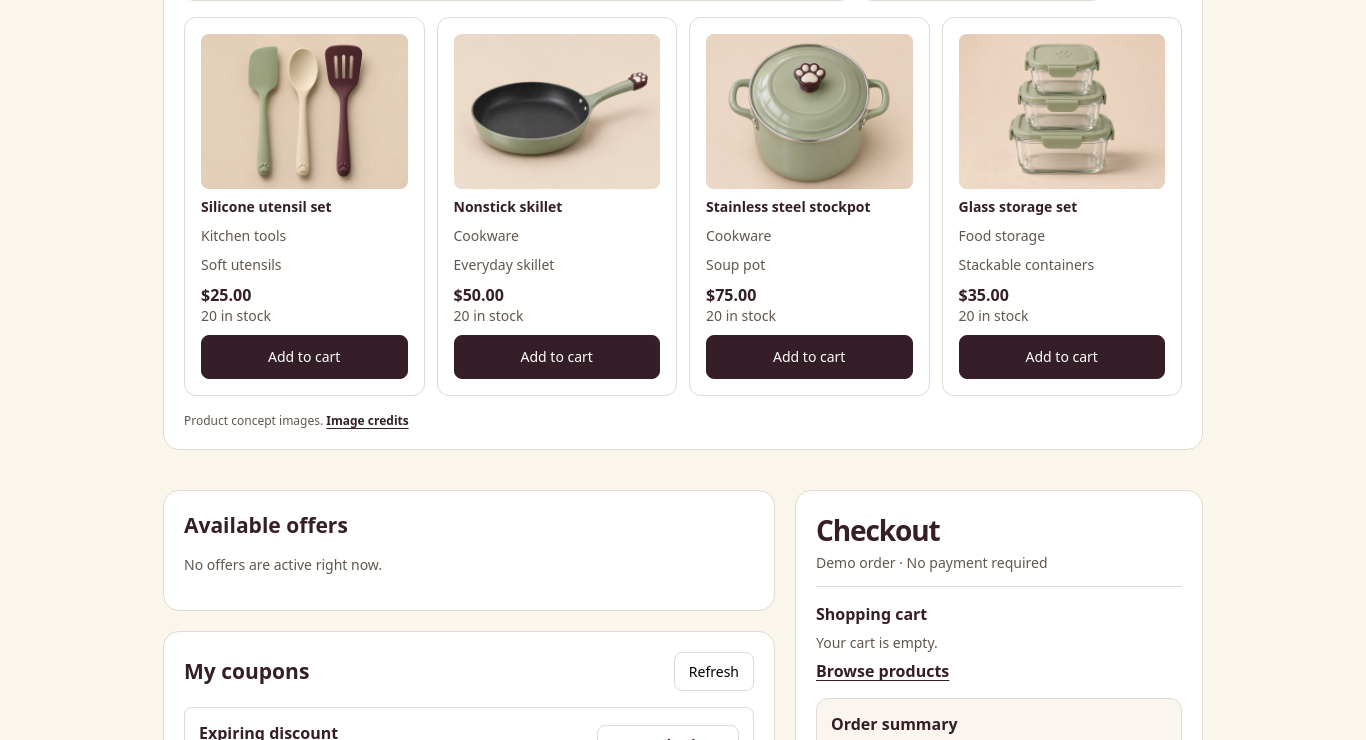
Test case: blocks an expired selected coupon without silently removing it or charging full price
Later steps or results of the test are not shown.
(page scrolled)
Click the button with aria-label "Add Nonstick skillet to cart" at [557, 357], box [454, 335, 660, 379]
(page scrolled)
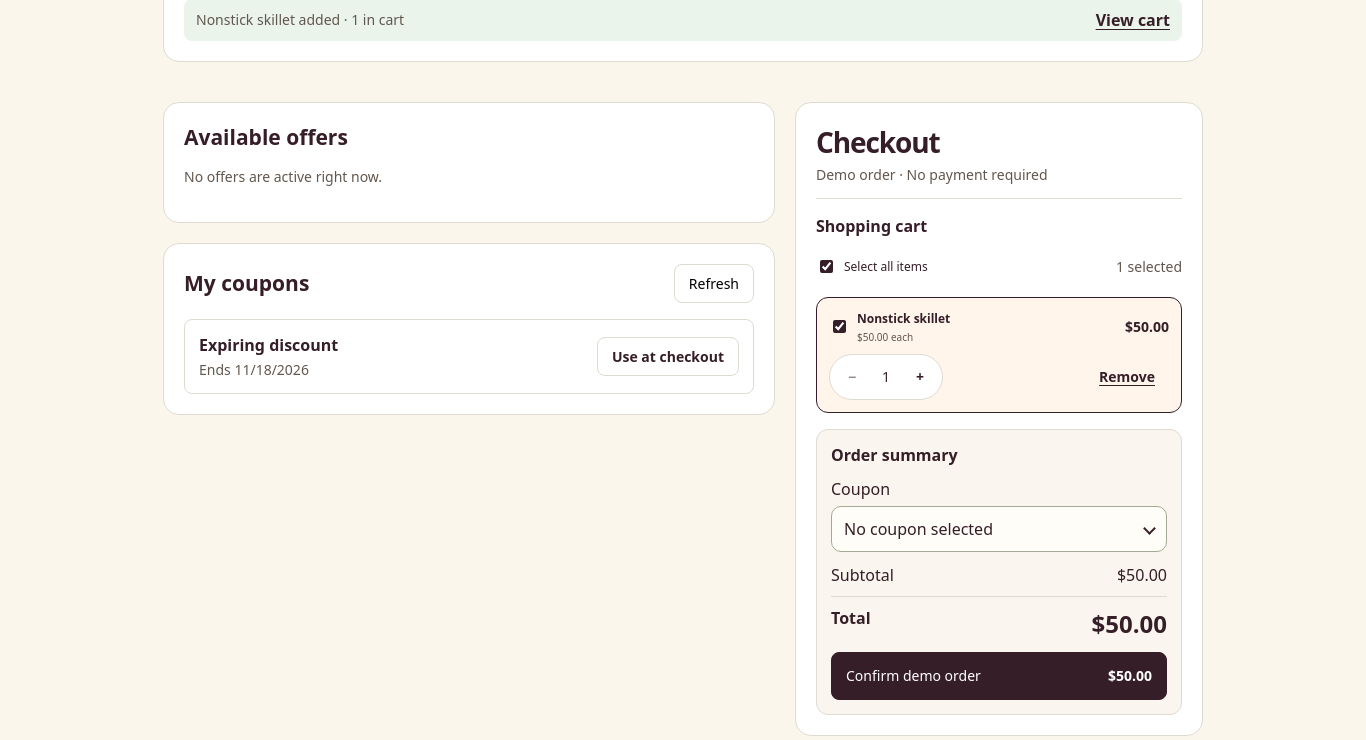
Click the button with aria-label "Use Expiring discount at checkout" at [668, 356], box [597, 337, 739, 376]
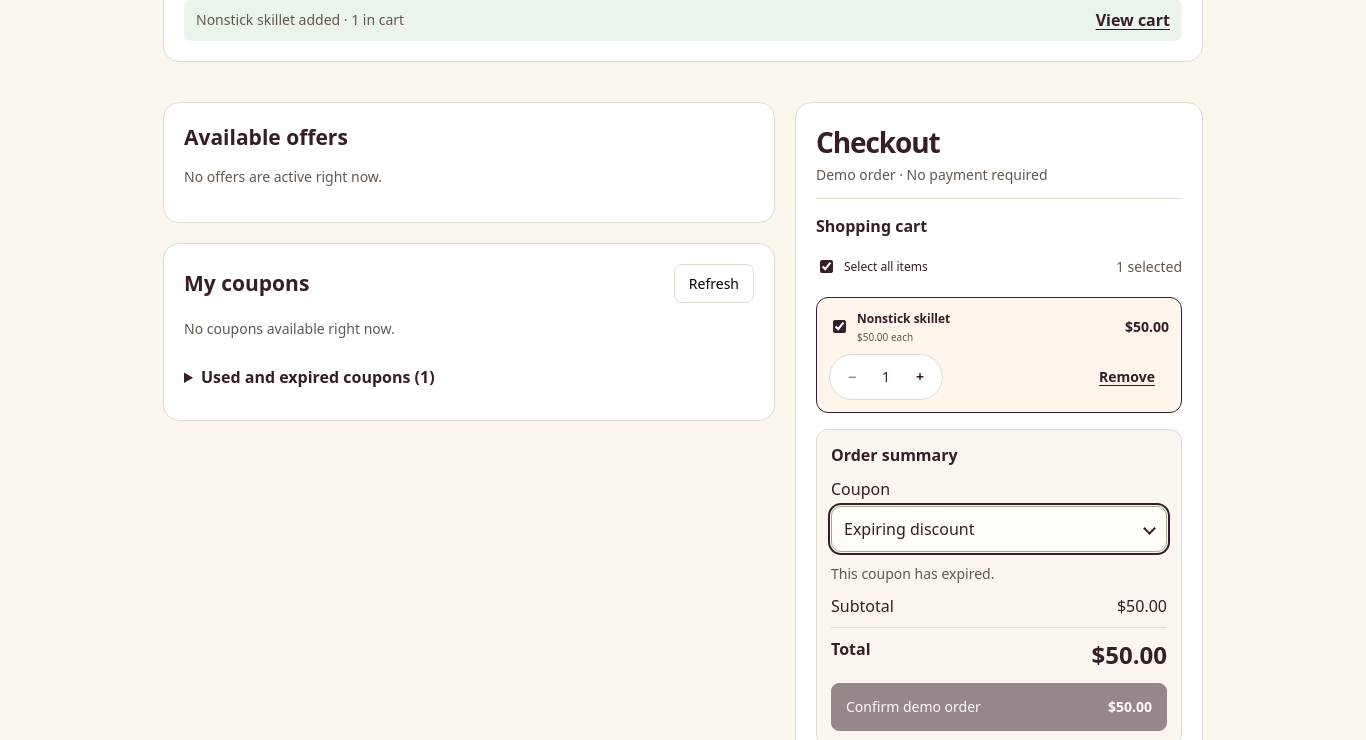
Now the text "This coupon has expired." is shown, box [831, 564, 994, 583]
Now the button "Confirm demo order $50.00" is disabled, box [831, 683, 1167, 731]
